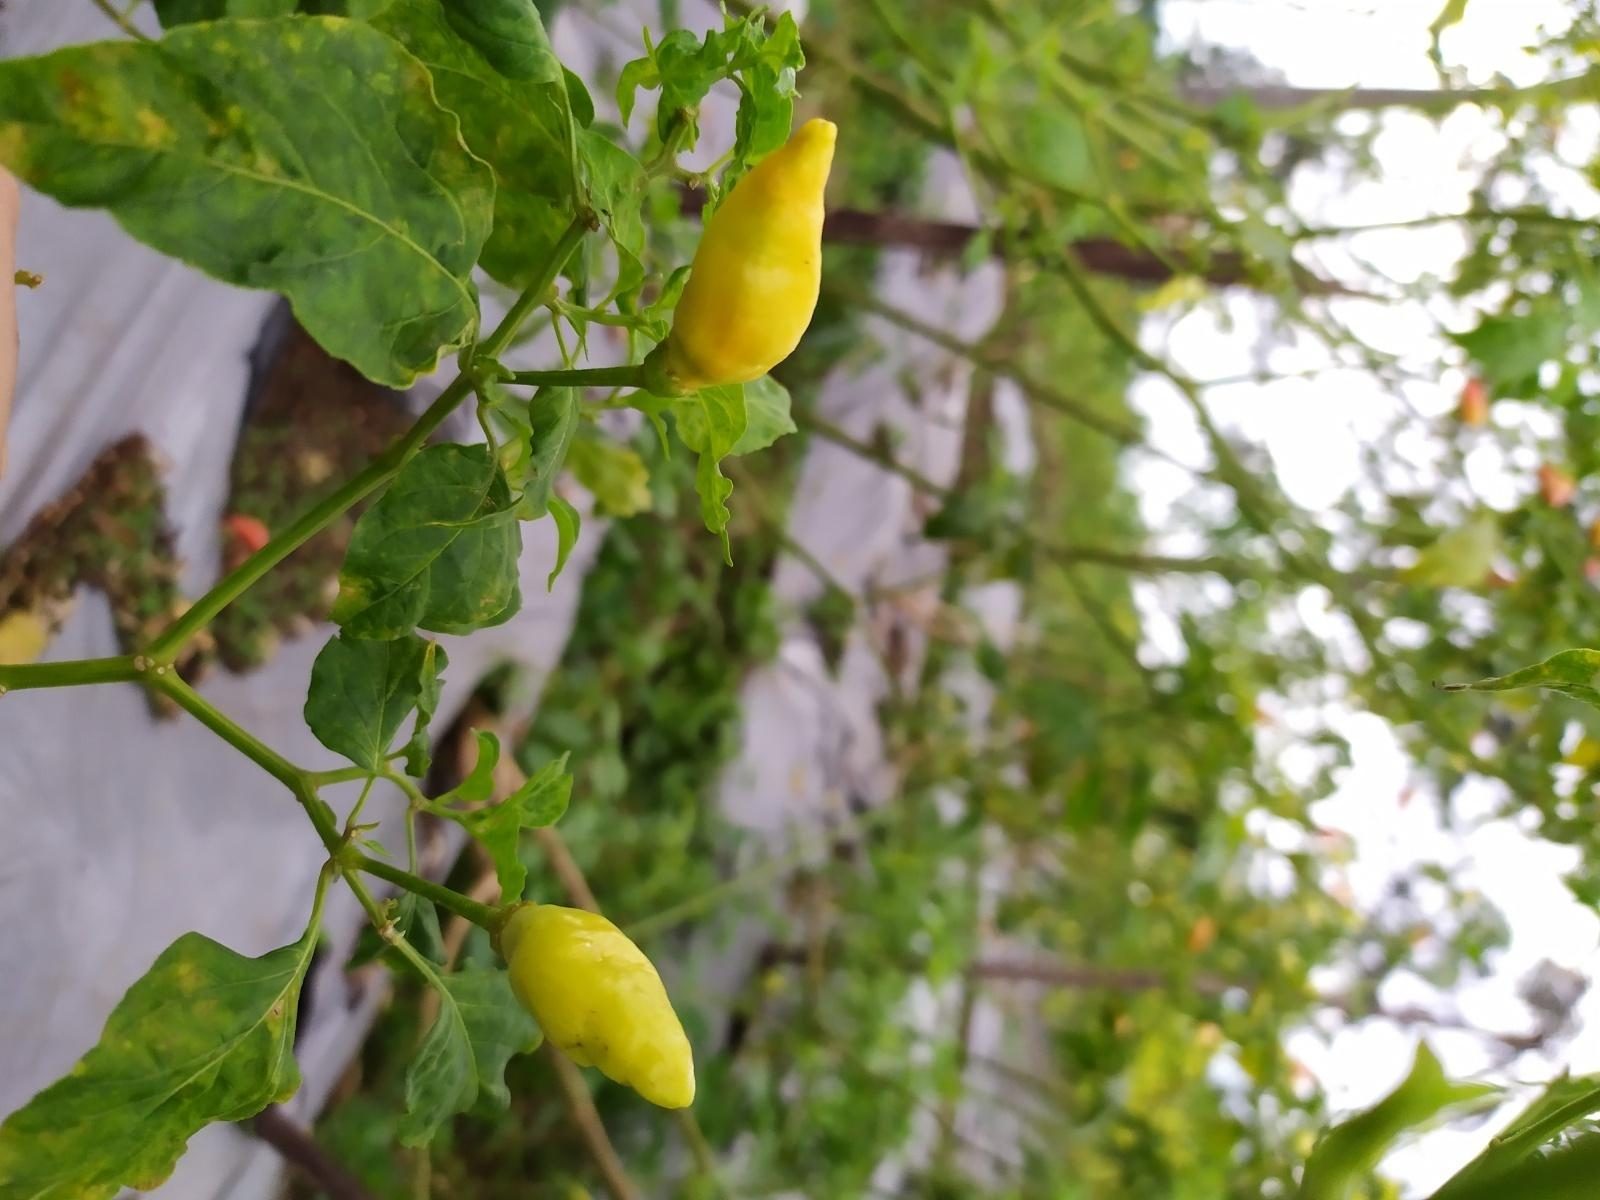cabai_normal: (659, 116, 839, 398), (496, 903, 697, 1111)
